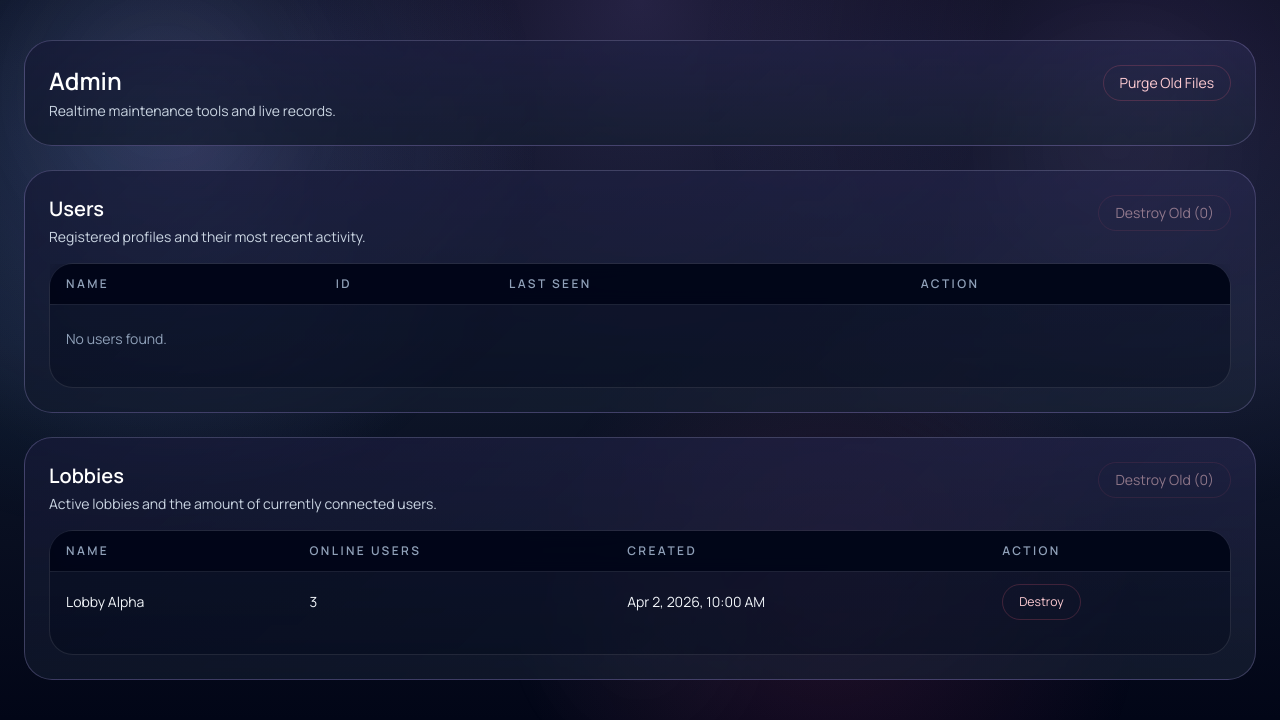
Test: AdminRoute › confirms and destroys a lobby through the admin endpoint
This screenshot has width=1280, height=720.
Click the button with aria-label "Destroy lobby Lobby Alpha". click: (1041, 602)
box: [1002,584,1081,620]
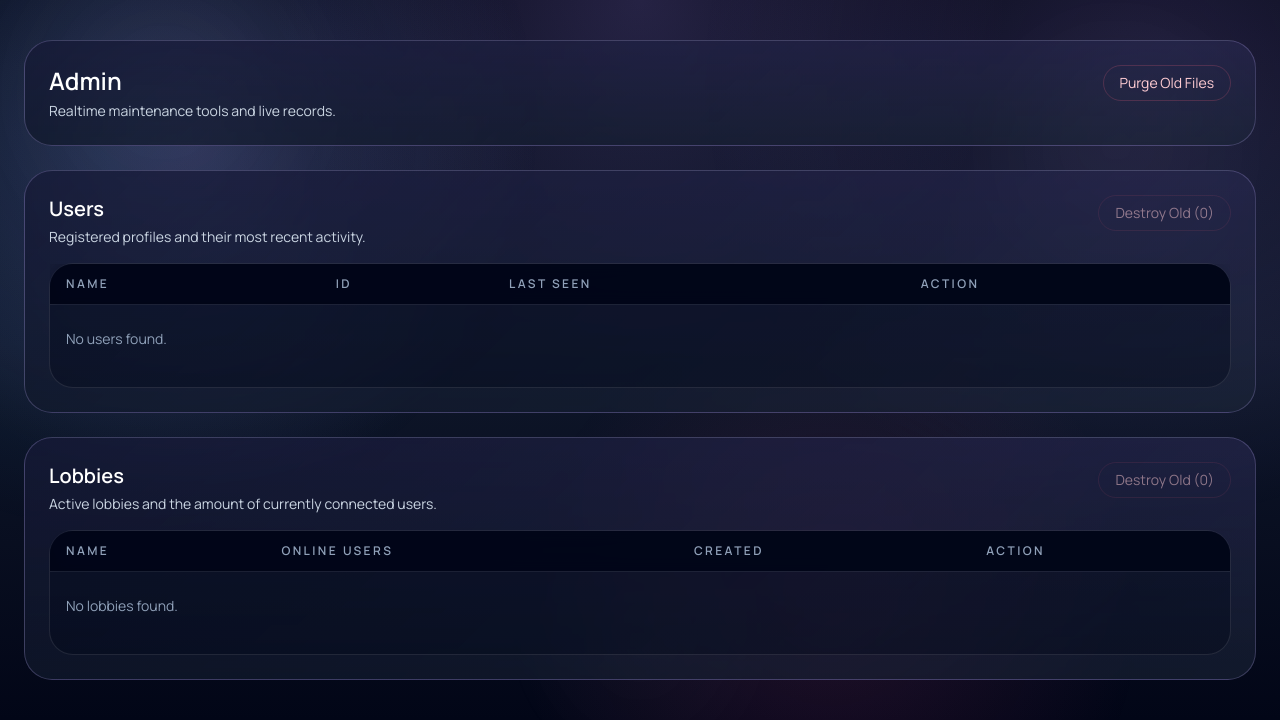
expect the text "Lobby Alpha" is gone: met
